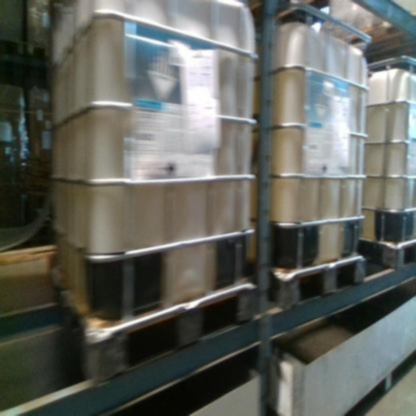pallets: (93, 244, 416, 381)
